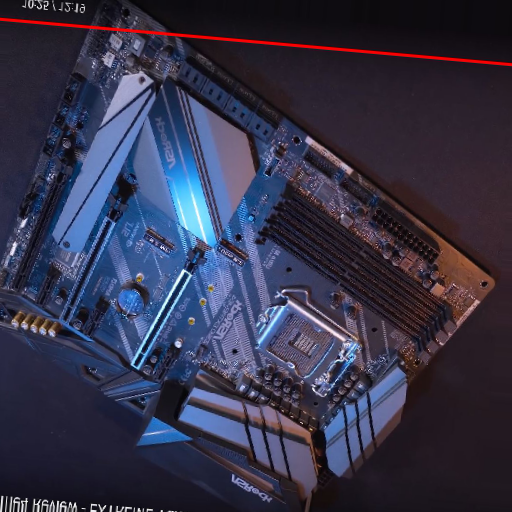CPU: (251, 297, 352, 393)
GPU: (130, 250, 205, 373), (58, 196, 126, 328)
MOTHERBOARD: (5, 10, 499, 502)
RAM: (252, 181, 460, 370)
SSD: (215, 241, 249, 268), (143, 227, 175, 255)
